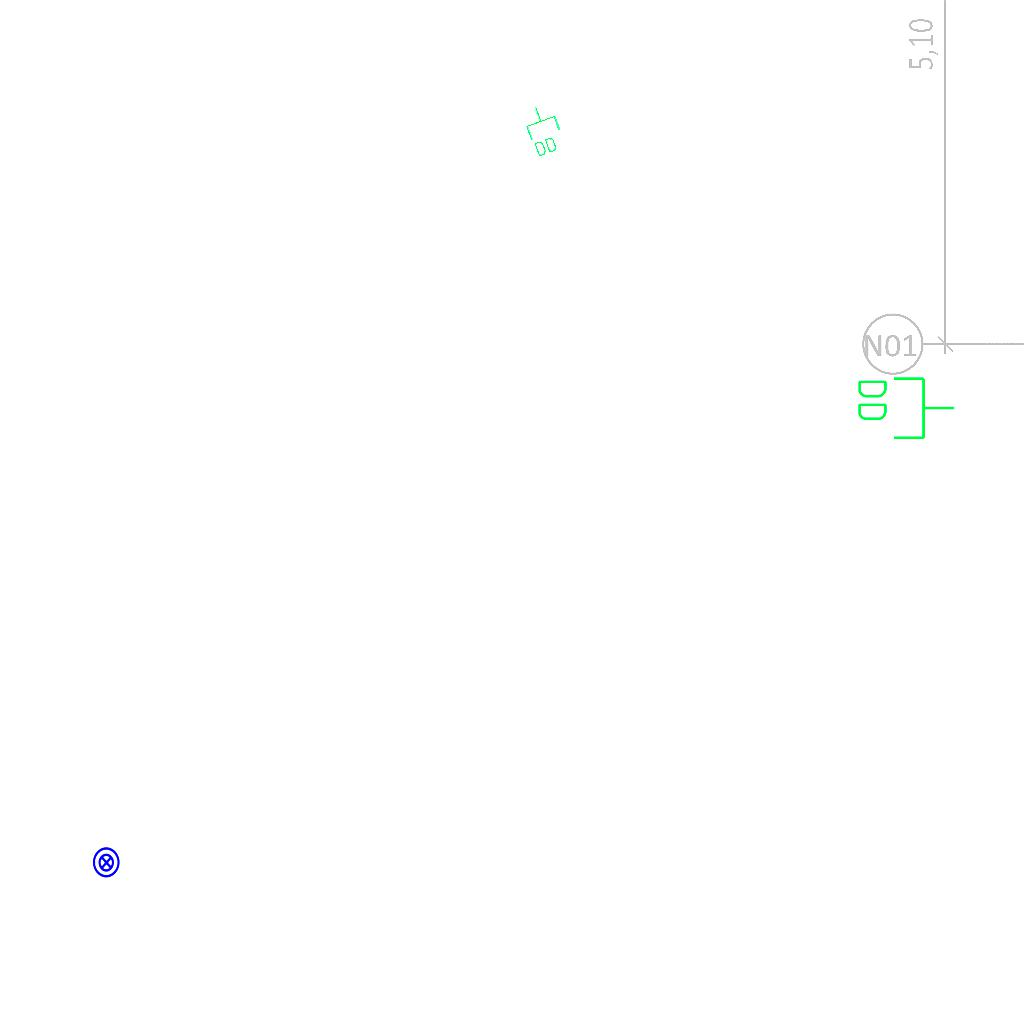Datenanschluss_zweifach: (854, 373, 957, 442), (518, 100, 569, 160)
Taster_beleuchtet: (90, 846, 123, 879)
